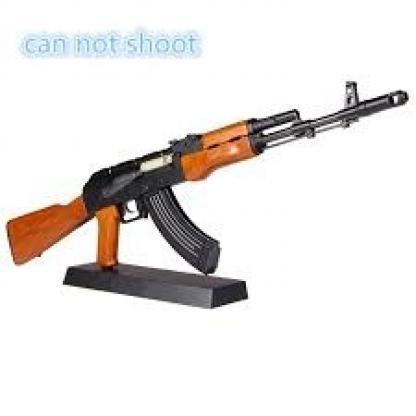Gun: (0, 68, 413, 313)
